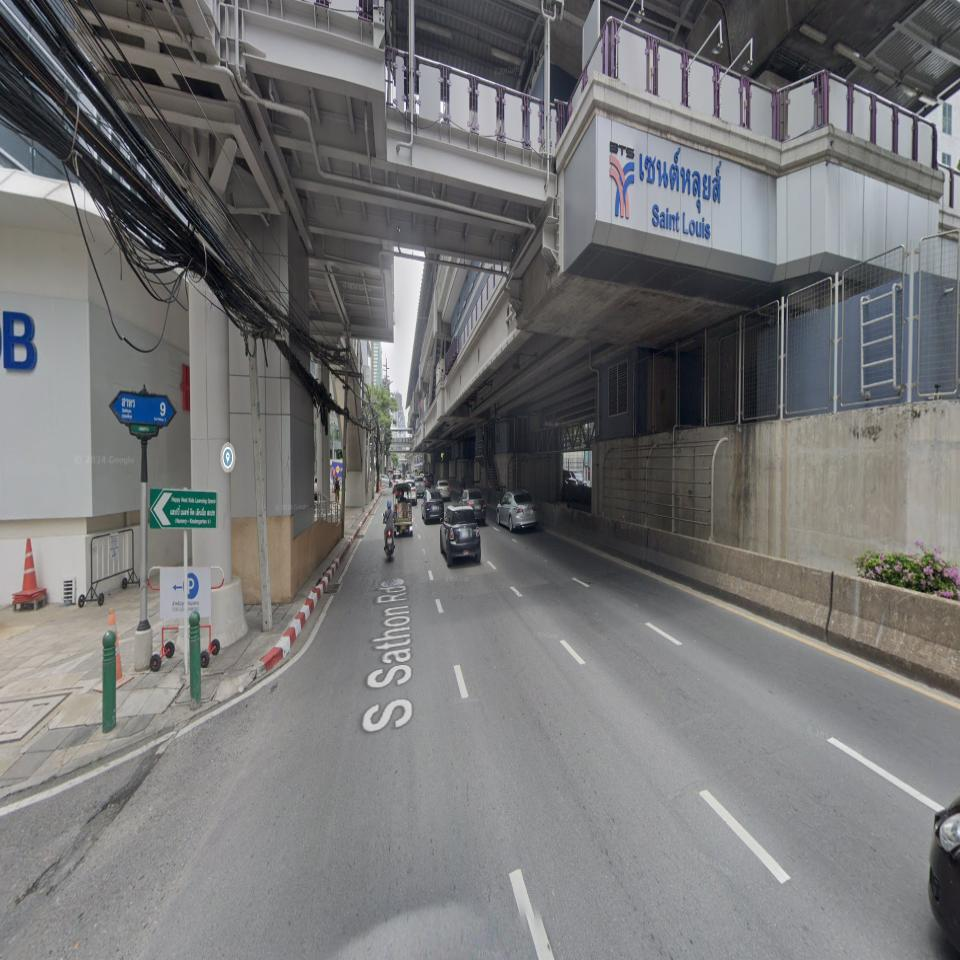Saint Louis: (609, 140, 722, 242), (640, 146, 722, 242)
